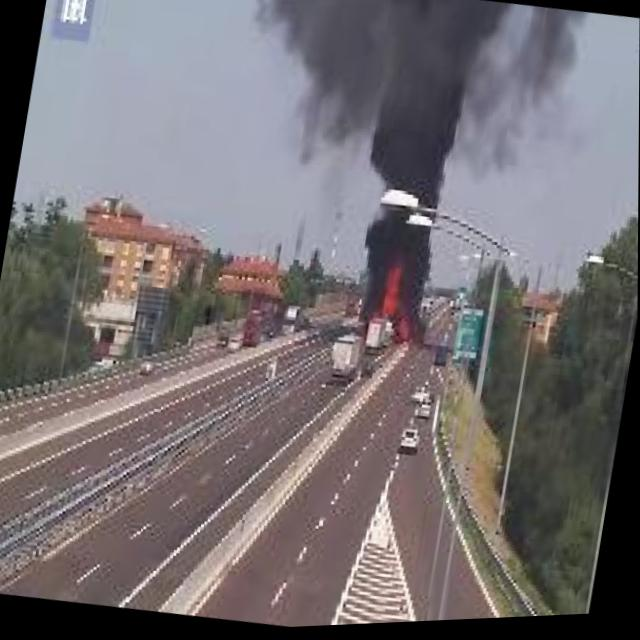fire: (364, 256, 432, 352)
